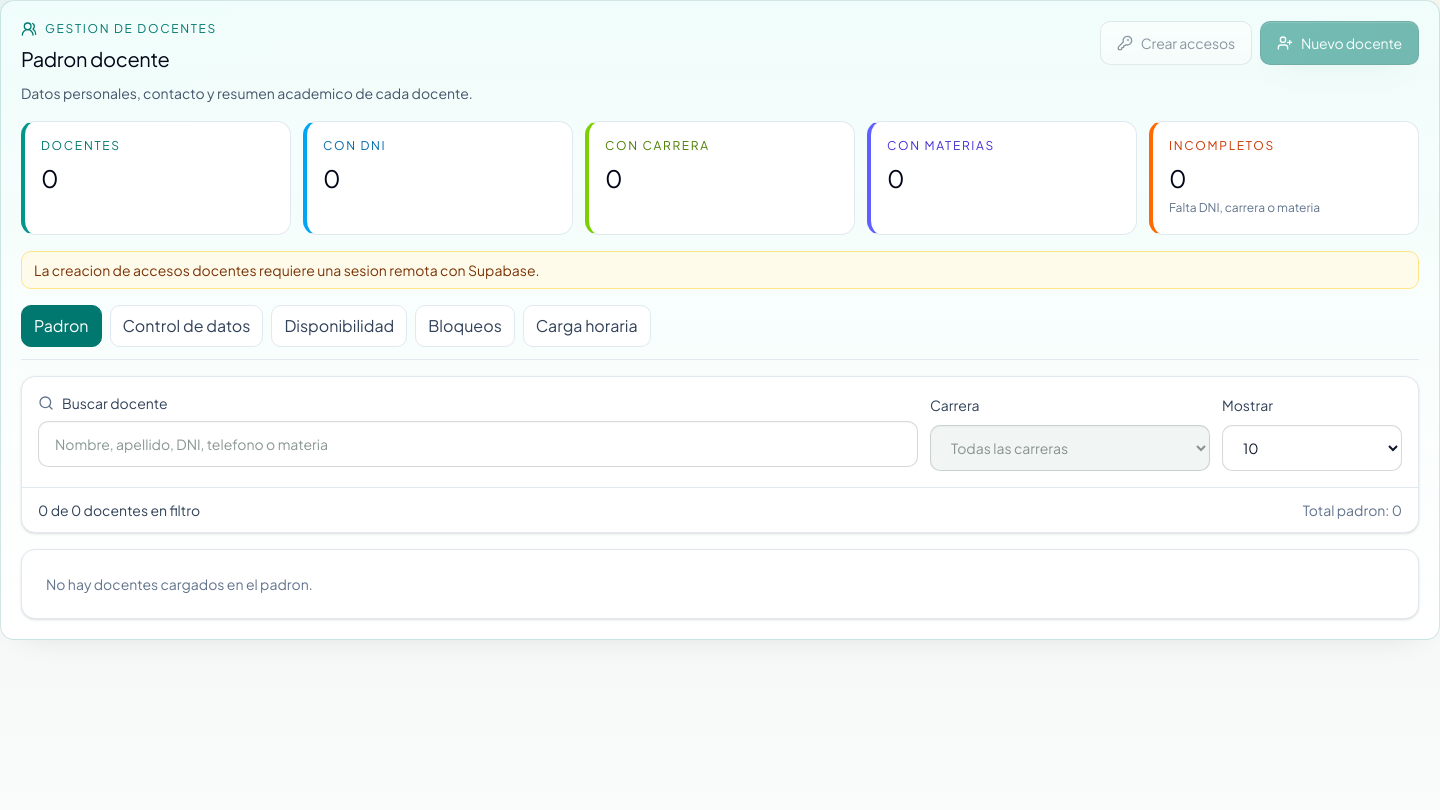
TeacherRosterSection fechas bloqueadas › lista bloqueos existentes por docente
The image size is (1440, 810).
Click the button "Bloqueos": x=465, y=326 x1=415 y1=305 x2=515 y2=347
(page scrolled)
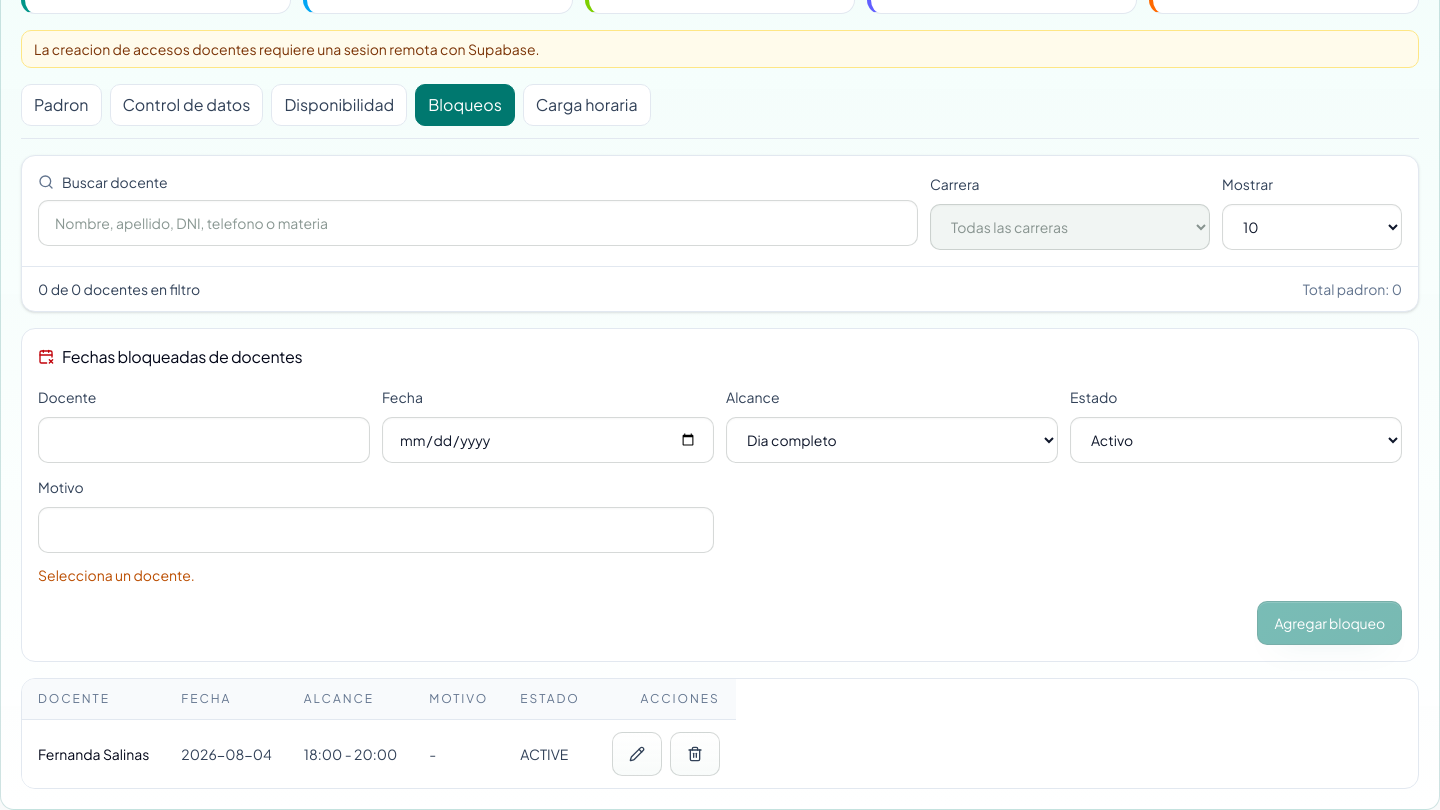
Now the text "Fernanda Salinas" is shown, box x1=22 y1=720 x2=165 y2=788
Now the text "18:00 - 20:00" is shown, box x1=288 y1=720 x2=413 y2=788
